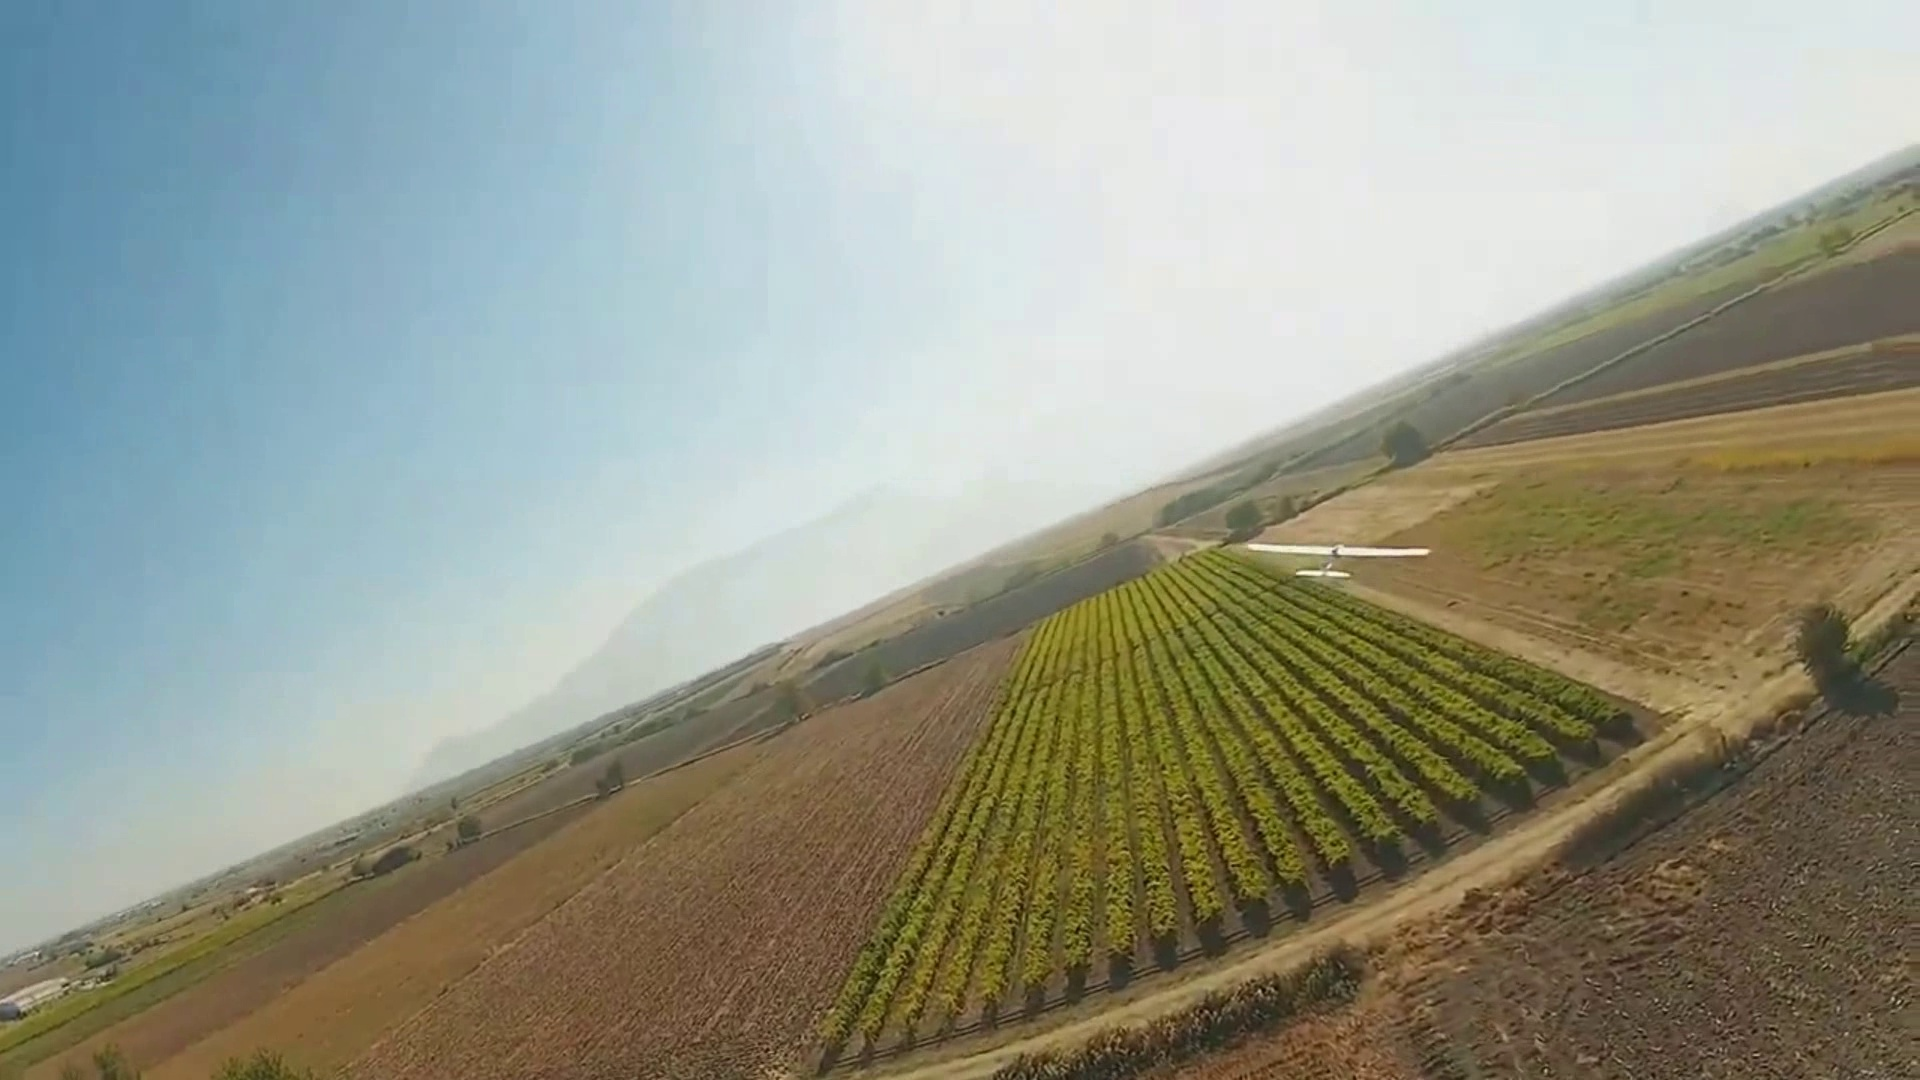airplane: (11, 138, 1919, 1036)
